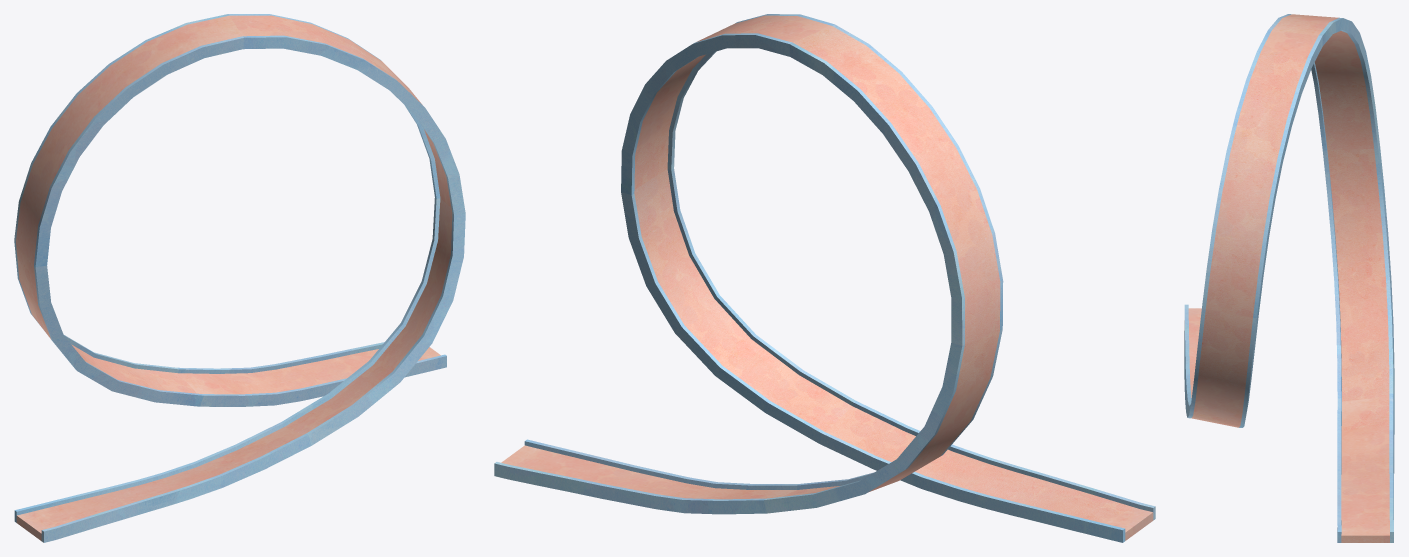
File: Stage_roll.fbx
3 views of the same model, side by side, from view 1: azimuth 30°, elevation 25°; view 2: azimuth 150°, elevation 25°; view 3: azimuth 270°, elevation 25° (orthographic). The views are drawn at different scales.
Parts seen in each view (by area): view 1: Stage_roll; view 2: Stage_roll; view 3: Stage_roll.
Part boxes in pixels (left/top/right/bottom): Stage_roll: left=14, top=14, right=465, bottom=542; Stage_roll: left=494, top=14, right=1155, bottom=542; Stage_roll: left=1184, top=14, right=1394, bottom=542.
Bounding box in the file's own units: 4002 × 3285 × 1565.
